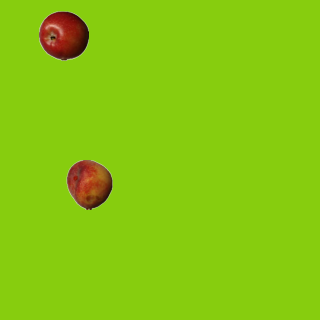Apple Braeburn: (38, 10, 88, 60)
Peach: (64, 159, 114, 209)
